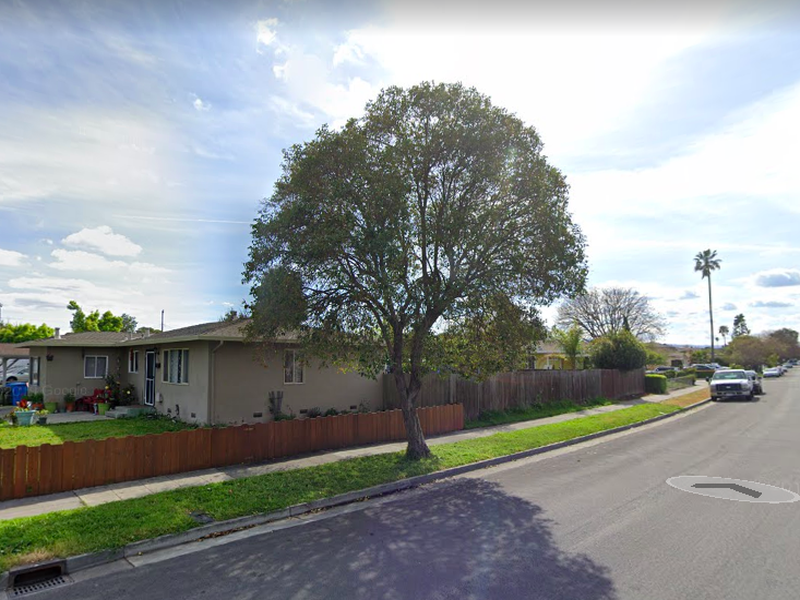tree: (242, 77, 593, 462)
